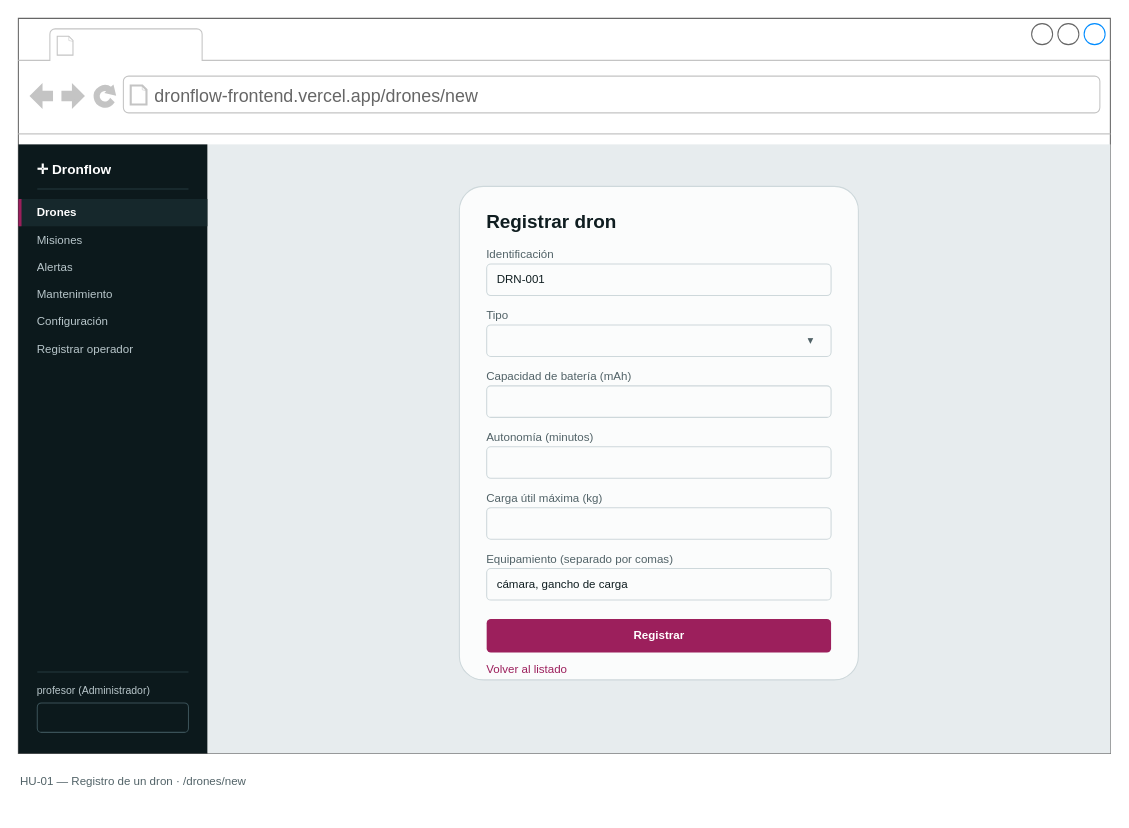
This 1129x828 diagram has some shape labels left out. Here are the shapes that lost their labels. From the top down, the box of each, then its label:
(486, 324, 831, 356): Selecciona un tipo
(36, 702, 188, 732): Cerrar sesión
